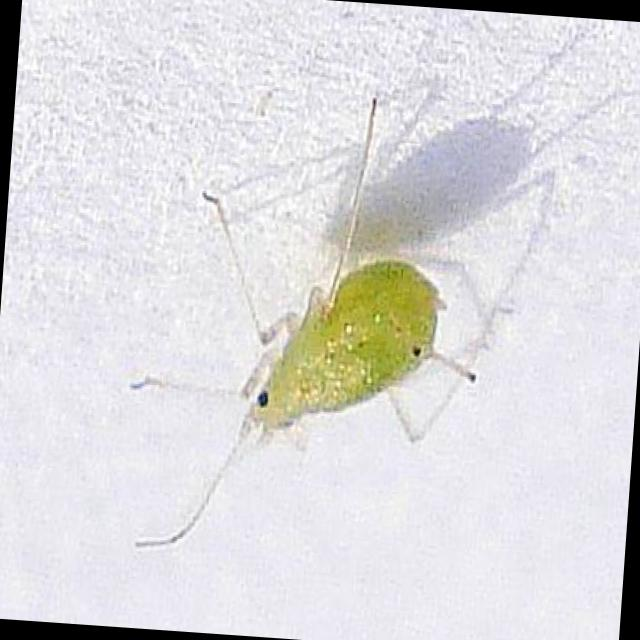Aphid: (146, 96, 522, 564)
